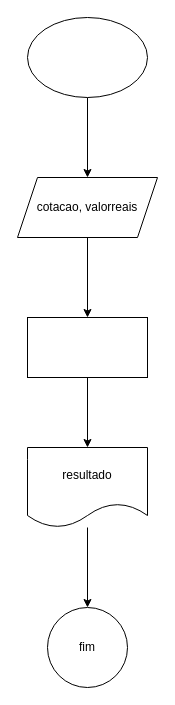
Image size: 175x705. Some labels were removed from this diagram. The shapes that lost their labels are listed below. From the top down, each one's centre as x and y in pixels, then its label:
the point at 87,57: ínicio
the point at 87,347: resultado = (valorreais/cotacao)
